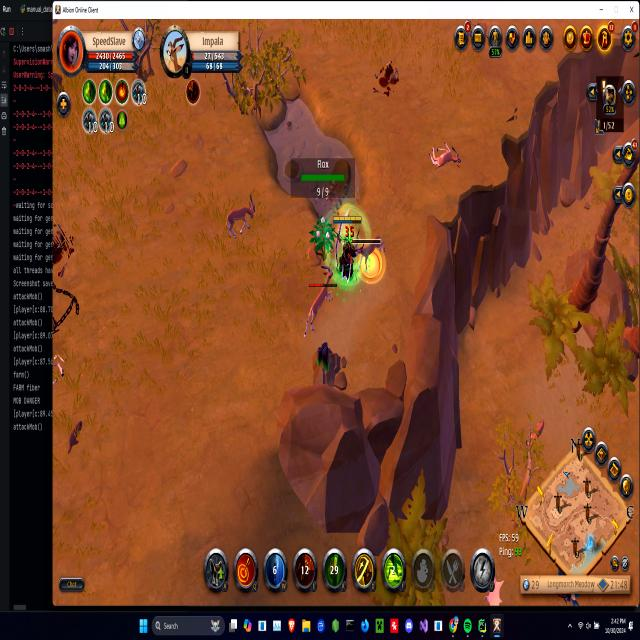hide: (310, 213, 335, 260)
mob: (426, 136, 464, 173)
ore: (302, 275, 337, 335), (349, 232, 388, 277), (223, 198, 258, 242), (524, 419, 546, 459)
red: (332, 211, 362, 284)
